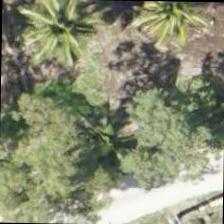Kelapa_Sawit: (25, 0, 117, 77), (124, 0, 215, 59)
